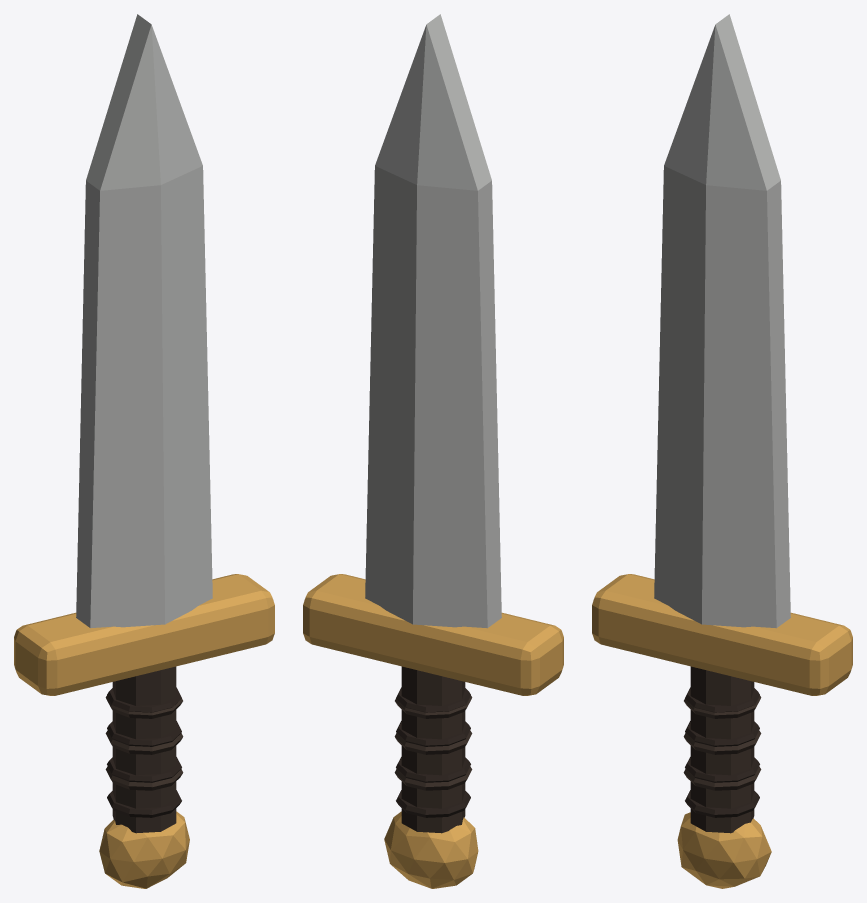
Rendered from sword.glb.
3 renders of one model, left to right at view 1: azimuth 30°, elevation 25°; view 2: azimuth 150°, elevation 25°; view 3: azimuth 330°, elevation 25°, orthographic.
Parts seen in each view (by area): view 1: Sword broad faceted blade, Sword gold guard, Sword leather grip, Sword pommel, Sword grip wrap, Sword grip wrap.002, Sword grip wrap.001, Woodland equipment worn binding, Woodland equipment worn binding.001, Sword grip wrap.003; view 2: Sword broad faceted blade, Sword gold guard, Sword leather grip, Sword pommel, Sword grip wrap, Sword grip wrap.002, Sword grip wrap.001, Woodland equipment worn binding, Woodland equipment worn binding.001, Sword grip wrap.003; view 3: Sword broad faceted blade, Sword gold guard, Sword leather grip, Sword pommel, Sword grip wrap, Sword grip wrap.002, Sword grip wrap.001, Woodland equipment worn binding, Woodland equipment worn binding.001, Sword grip wrap.003.
Part boxes in pixels (x1=…): Sword broad faceted blade: x1=76, y1=14, x2=212, y2=628; Sword gold guard: x1=14, y1=574, x2=274, y2=695; Sword leather grip: x1=112, y1=666, x2=176, y2=833; Sword pommel: x1=99, y1=811, x2=189, y2=888; Sword grip wrap: x1=107, y1=790, x2=181, y2=817; Sword grip wrap.002: x1=107, y1=721, x2=181, y2=746; Sword grip wrap.001: x1=107, y1=757, x2=181, y2=782; Woodland equipment worn binding: x1=105, y1=766, x2=183, y2=790; Woodland equipment worn binding.001: x1=105, y1=730, x2=183, y2=754; Sword grip wrap.003: x1=107, y1=687, x2=181, y2=712; Sword broad faceted blade: x1=365, y1=14, x2=501, y2=628; Sword gold guard: x1=303, y1=574, x2=563, y2=695; Sword leather grip: x1=401, y1=666, x2=465, y2=833; Sword pommel: x1=384, y1=811, x2=478, y2=888; Sword grip wrap: x1=396, y1=790, x2=470, y2=817; Sword grip wrap.002: x1=396, y1=721, x2=470, y2=746; Sword grip wrap.001: x1=396, y1=757, x2=470, y2=782; Woodland equipment worn binding: x1=394, y1=766, x2=472, y2=790; Woodland equipment worn binding.001: x1=394, y1=730, x2=472, y2=754; Sword grip wrap.003: x1=396, y1=687, x2=470, y2=712; Sword broad faceted blade: x1=654, y1=14, x2=790, y2=628; Sword gold guard: x1=592, y1=574, x2=852, y2=695; Sword leather grip: x1=690, y1=666, x2=754, y2=833; Sword pommel: x1=677, y1=812, x2=771, y2=888; Sword grip wrap: x1=685, y1=790, x2=759, y2=817; Sword grip wrap.002: x1=685, y1=721, x2=759, y2=746; Sword grip wrap.001: x1=685, y1=757, x2=759, y2=782; Woodland equipment worn binding: x1=683, y1=766, x2=761, y2=790; Woodland equipment worn binding.001: x1=683, y1=730, x2=761, y2=754; Sword grip wrap.003: x1=685, y1=687, x2=759, y2=712.
Bounding box in the file's own units: 0.48 × 1.69 × 0.146.
